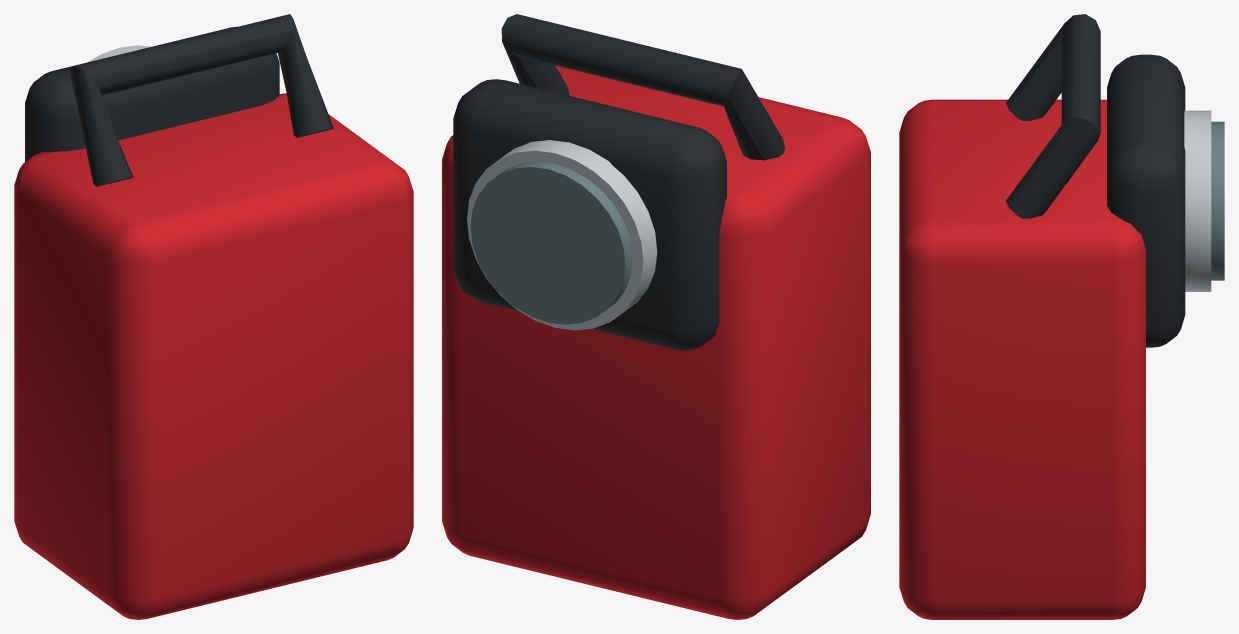
The model's file is ob_cabin_red_case.glb.
The picture shows the model from 3 angles, left to right: view 1: azimuth 30°, elevation 25°; view 2: azimuth 150°, elevation 25°; view 3: azimuth 270°, elevation 25°; orthographic projection. The views are drawn at different scales.
Visible parts, largest first — view 1: ob_cabin_red_case; view 2: ob_cabin_red_case; view 3: ob_cabin_red_case.
Boxes of the visible parts, <box> form: ob_cabin_red_case: <box>14,14,413,619</box>; ob_cabin_red_case: <box>442,14,870,619</box>; ob_cabin_red_case: <box>899,14,1224,619</box>.
Bounding box in the file's own units: 0.16 × 0.25 × 0.15.
